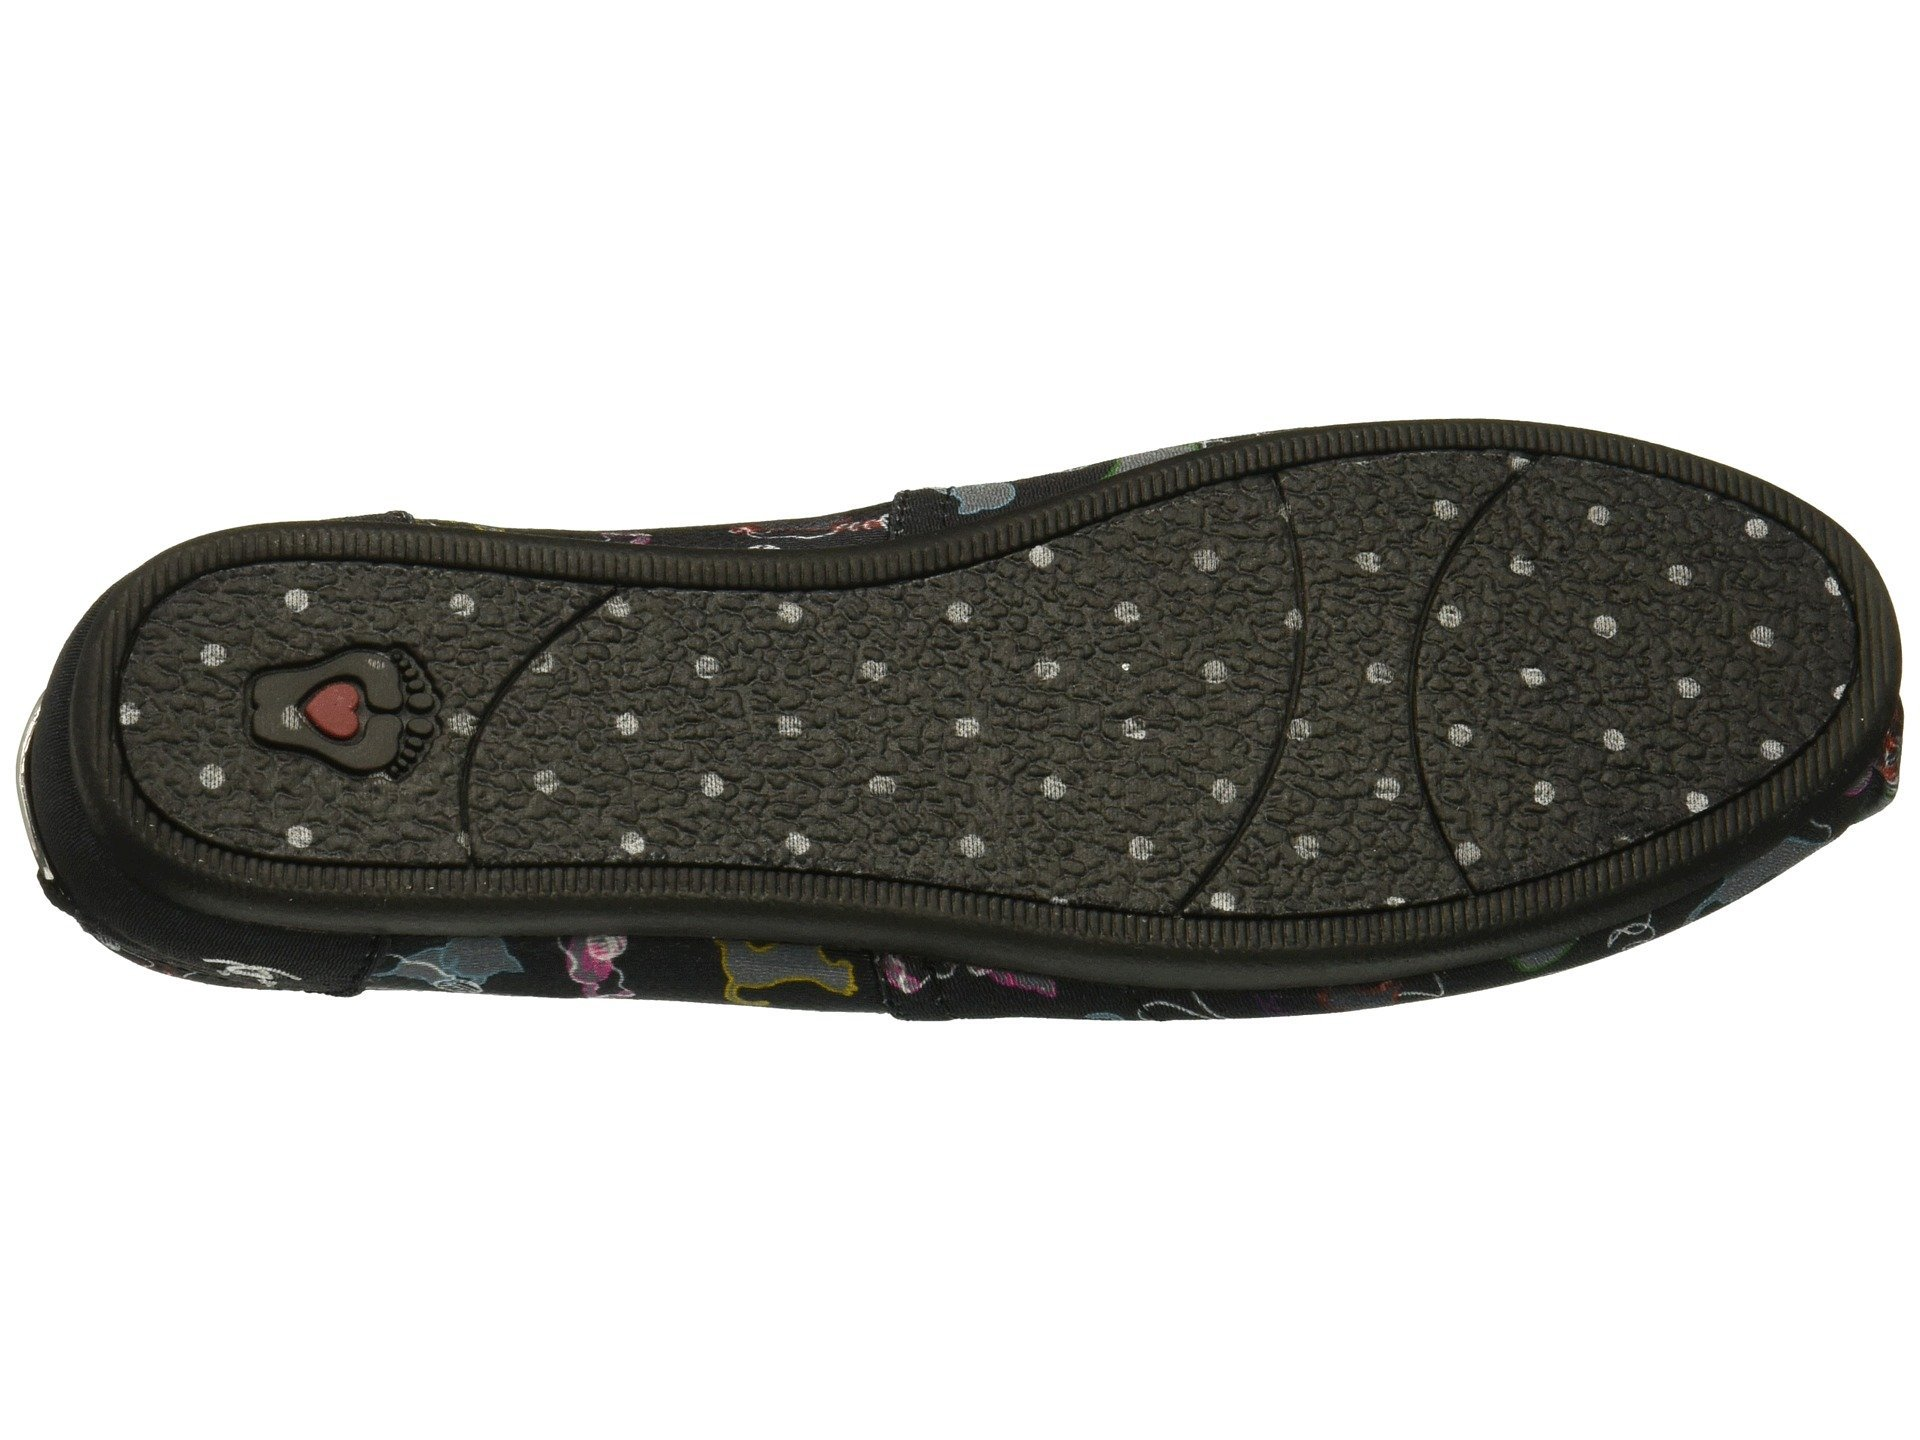circle: (711, 593, 1138, 844), (243, 613, 451, 793)
line: (711, 593, 1138, 844), (243, 613, 451, 793), (352, 526, 605, 576)
other: (711, 593, 1138, 844), (243, 613, 451, 793)
